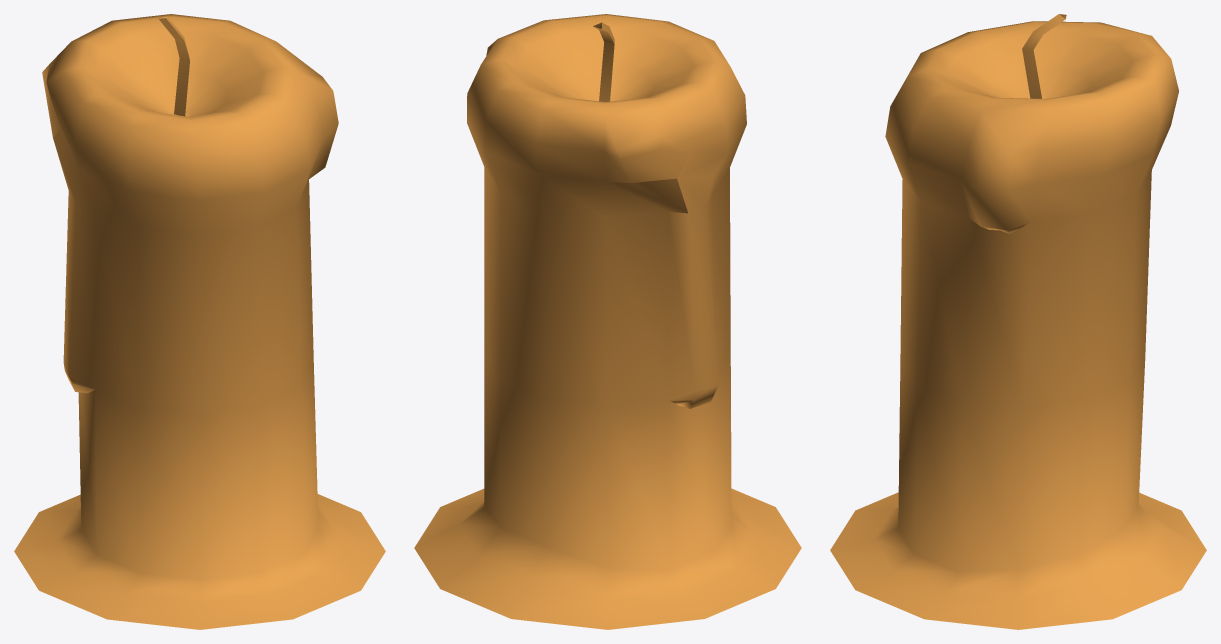
The model's file is decor_candlebig.fbx.
3 renders of one model, left to right at view 1: azimuth 30°, elevation 25°; view 2: azimuth 150°, elevation 25°; view 3: azimuth 270°, elevation 25°, orthographic. The views are drawn at different scales.
Parts seen in each view (by area): view 1: decor_candlebig; view 2: decor_candlebig; view 3: decor_candlebig.
Boxes of the visible parts, x1,y1,x2,y2 form: decor_candlebig: [14, 14, 385, 629]; decor_candlebig: [414, 14, 801, 629]; decor_candlebig: [830, 14, 1206, 629].
Bounding box in the file's own units: 8.78 × 13.61 × 8.78.
